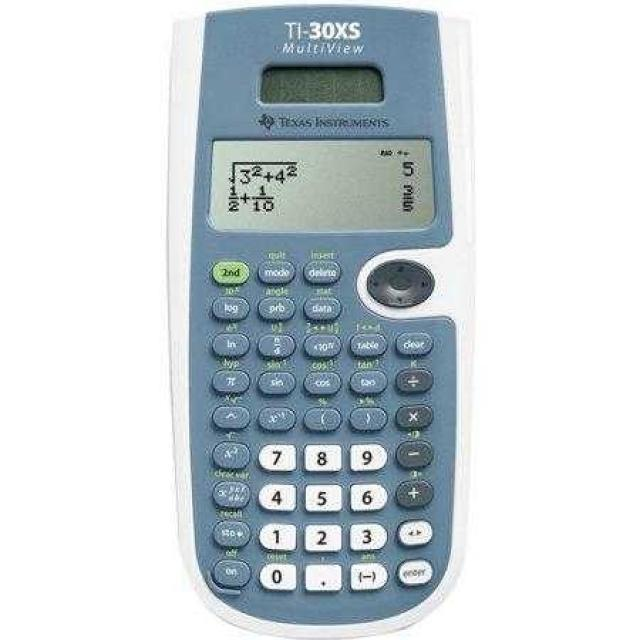Calculator: (166, 4, 474, 634)
